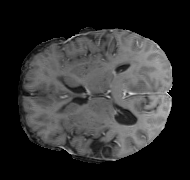Edema: (74, 56, 157, 104)
EnhancingTumors: (112, 68, 145, 95)
Necrosis: (113, 70, 144, 96)
